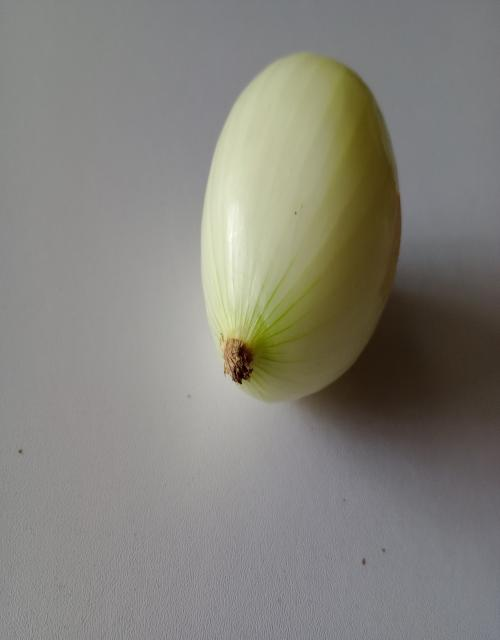Cebolla-: (186, 13, 456, 476)
